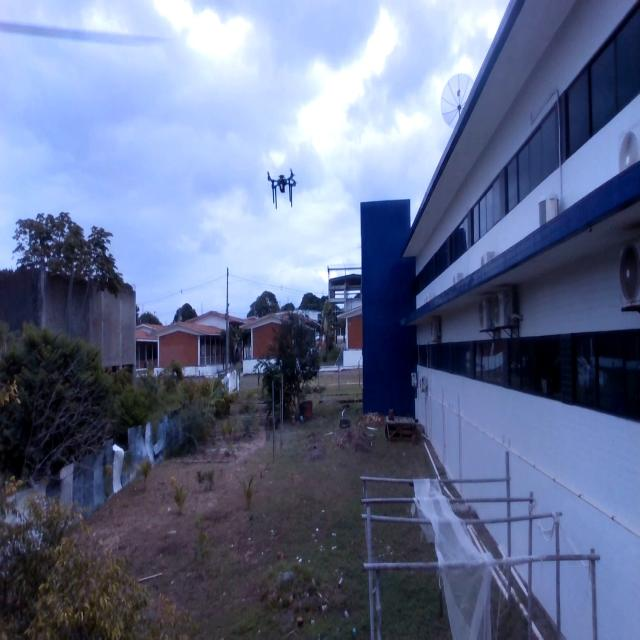-uav-: (261, 160, 306, 210)
